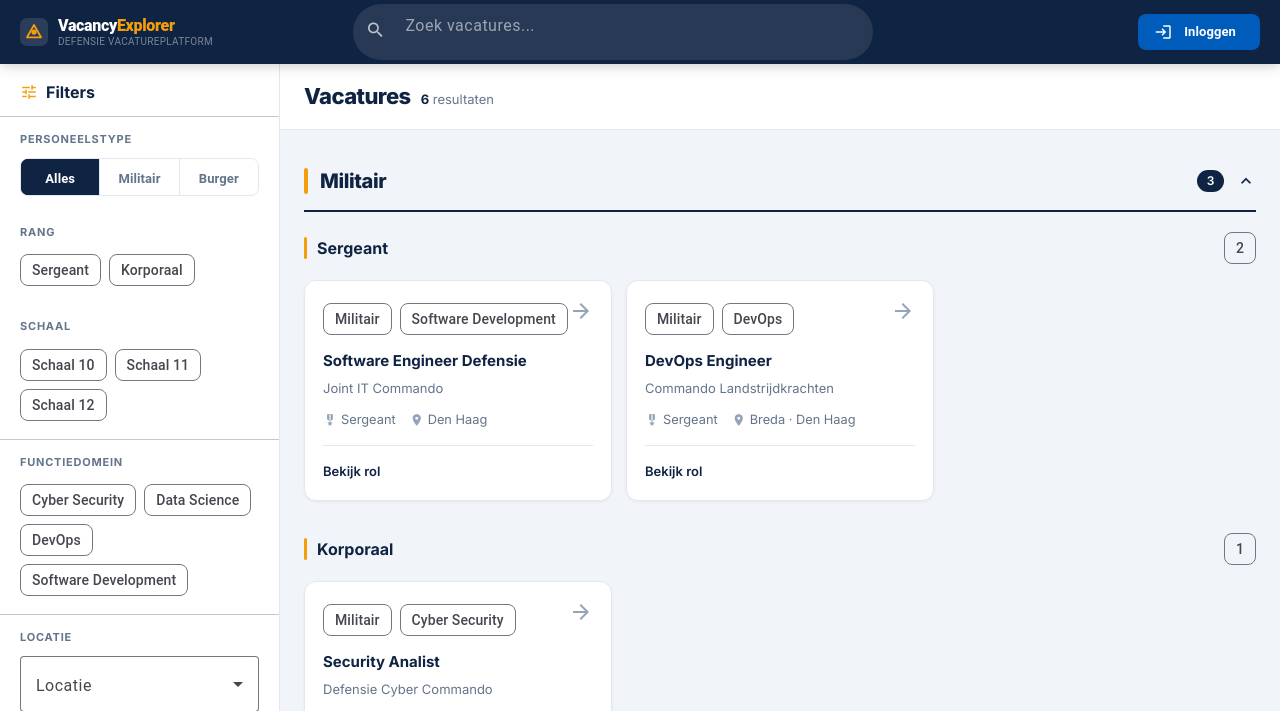
Vacancy overview – search › finds vacancies by location
Check: the element with test id "vacancy-card" that starts with "Militair" is shown, box top-left (304, 280), bottom-right (612, 501)
Step 1. Type "Den Haag" into the search field with test id "search-input" → [631, 26], box top-left (405, 14), bottom-right (857, 38)
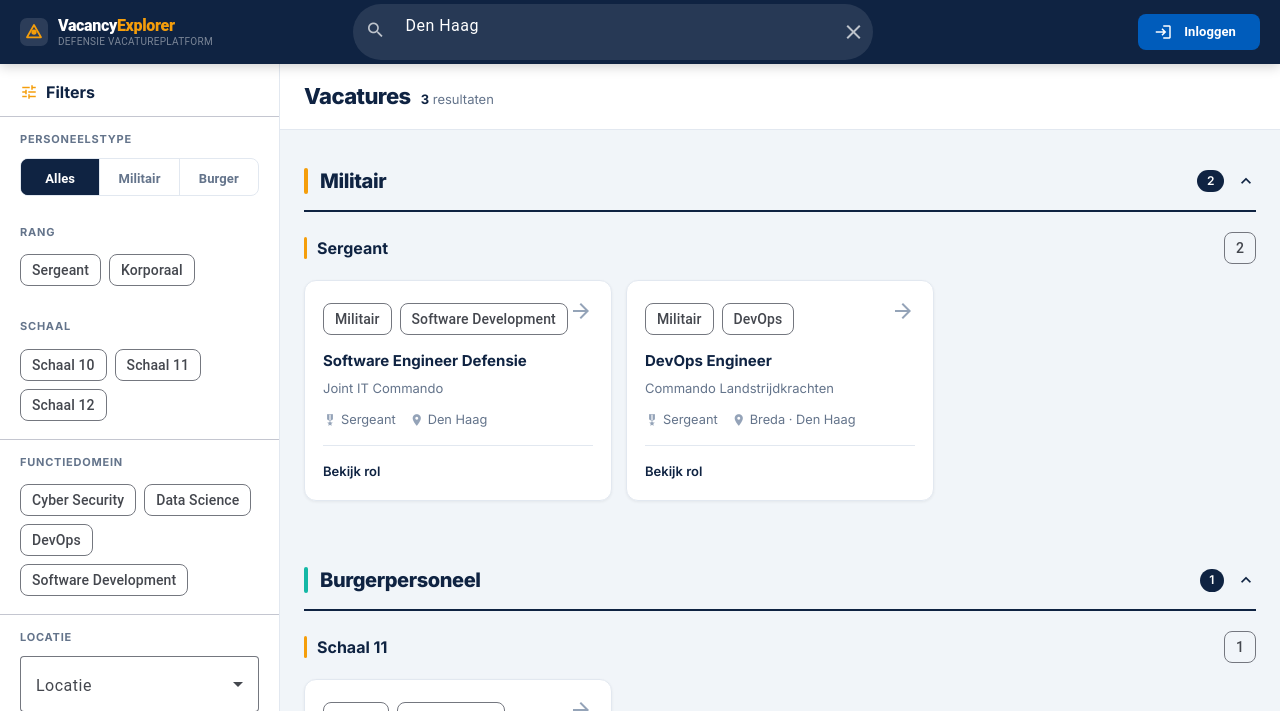
Check: the text with test id "results-count-value" reads "3", box top-left (421, 91), bottom-right (429, 107)
